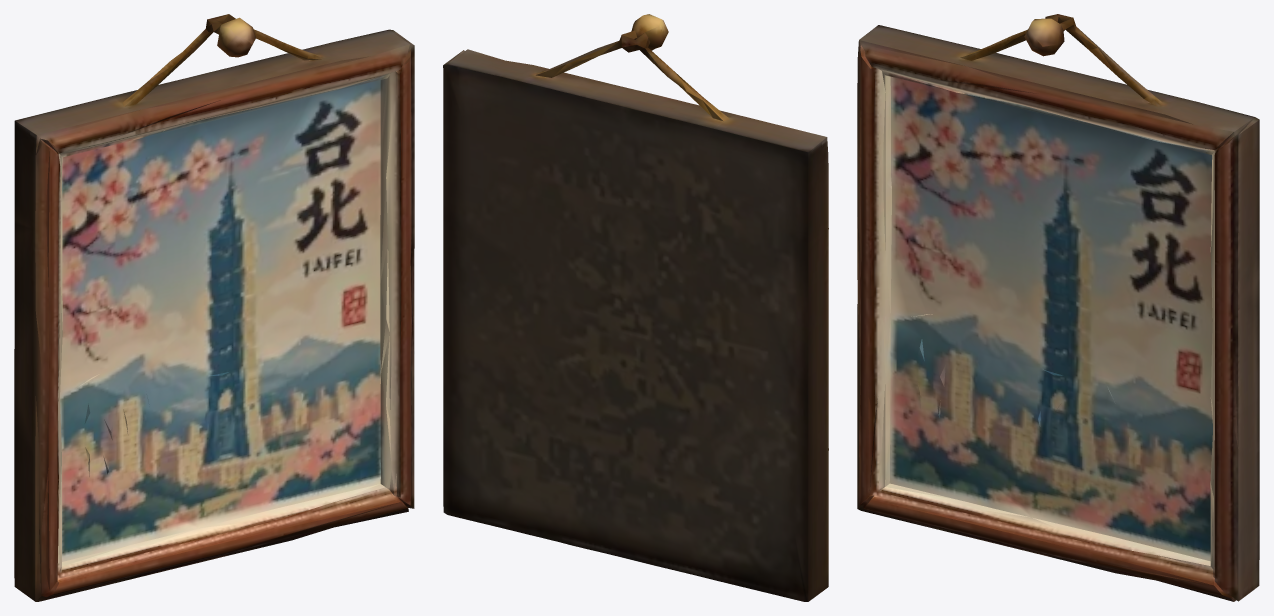
Rendered from pic08.glb.
The picture shows the model from 3 angles, left to right: view 1: azimuth 30°, elevation 25°; view 2: azimuth 150°, elevation 25°; view 3: azimuth 330°, elevation 25°; orthographic projection. The views are drawn at different scales.
Bounding box in the file's own units: 0.2127 × 0.2905 × 0.0371.
Materials: 1 (1 with a texture image).
